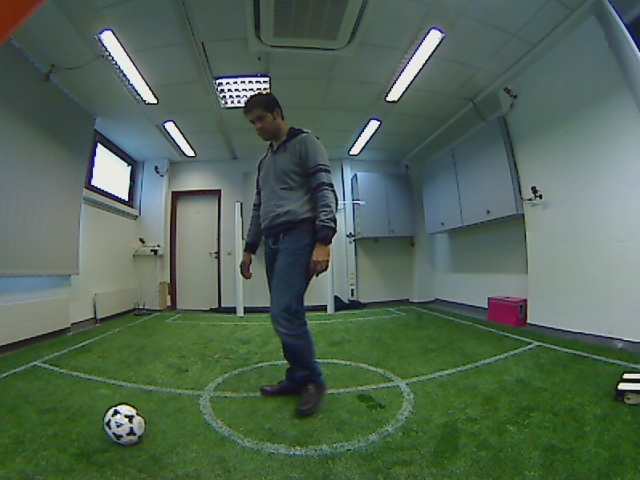ball: (95, 400, 149, 450)
